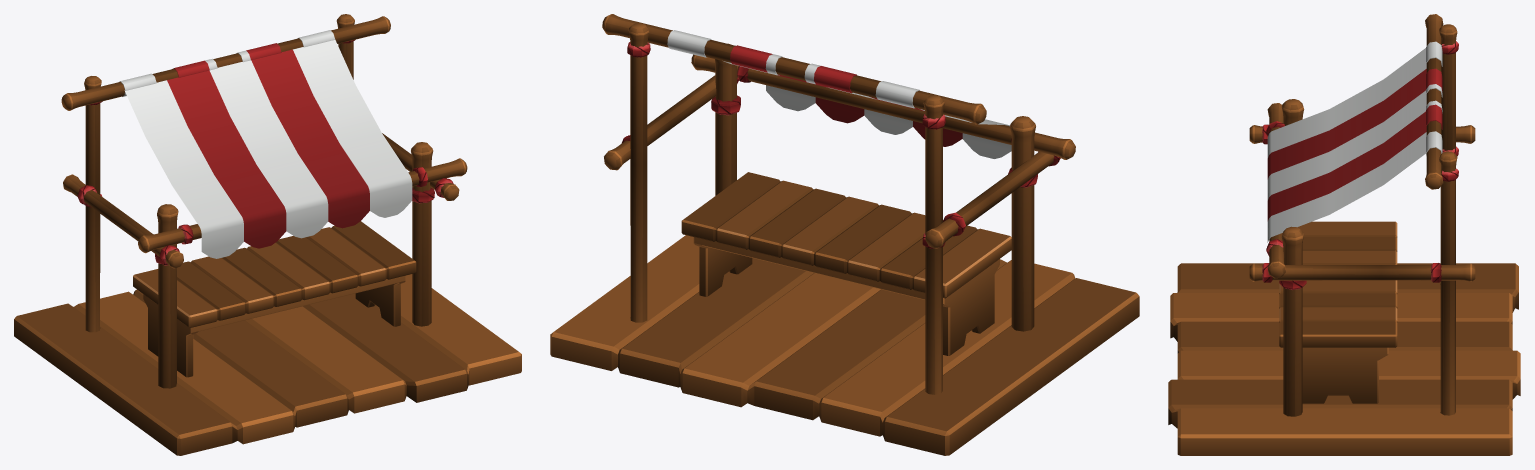
Rendered from Stall-1-2.fbx.
The picture shows the model from 3 angles, left to right: view 1: azimuth 30°, elevation 25°; view 2: azimuth 150°, elevation 25°; view 3: azimuth 270°, elevation 25°; orthographic projection. The views are drawn at different scales.
Parts seen in each view (by area): view 1: Stall-1-2; view 2: Stall-1-2; view 3: Stall-1-2.
Boxes of the visible parts, x1,y1,x2,y2 form: Stall-1-2: (14, 14, 521, 455); Stall-1-2: (550, 14, 1139, 455); Stall-1-2: (1168, 14, 1520, 455).
Bounding box in the file's own units: 555 × 417 × 477.
